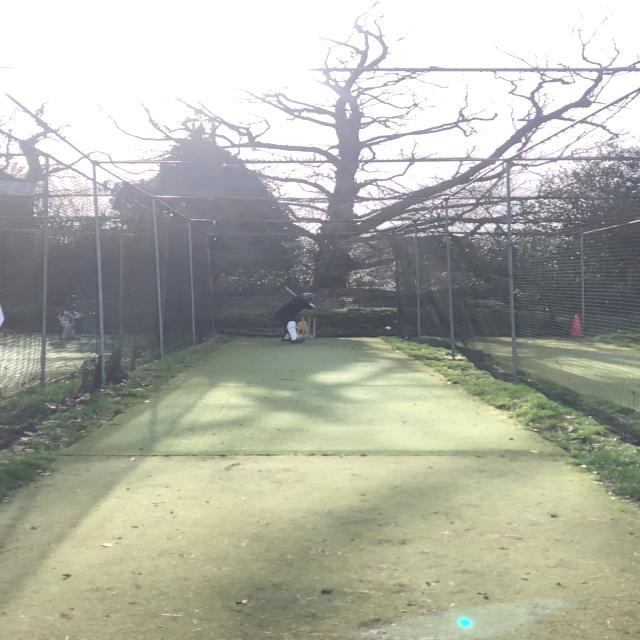ball: (384, 326, 392, 331)
